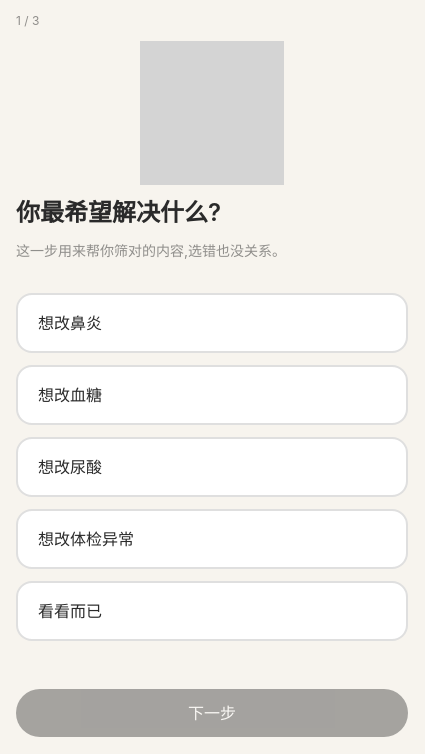
U-Quiz Step1 › Step1 选项写入 quiz store
The width and height of the screenshot is (425, 754).
Click the button with test id "quiz-choice-rhinitis" at [70, 323], box [16,293,408,353]
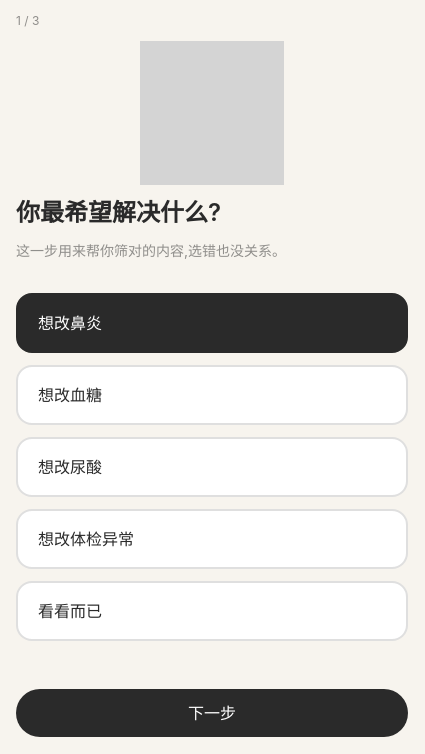
Now the button with test id "quiz-step1-next" is enabled, box [16,689,408,737]
